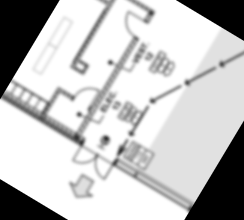door: (71, 78, 102, 111), (118, 9, 148, 39)
double door: (69, 141, 118, 183)
wall: (72, 35, 140, 142), (68, 0, 132, 70), (3, 90, 78, 139), (39, 86, 63, 120), (117, 0, 157, 16), (69, 64, 89, 79), (76, 0, 112, 8), (59, 88, 76, 102), (79, 60, 92, 77), (77, 59, 90, 70)
